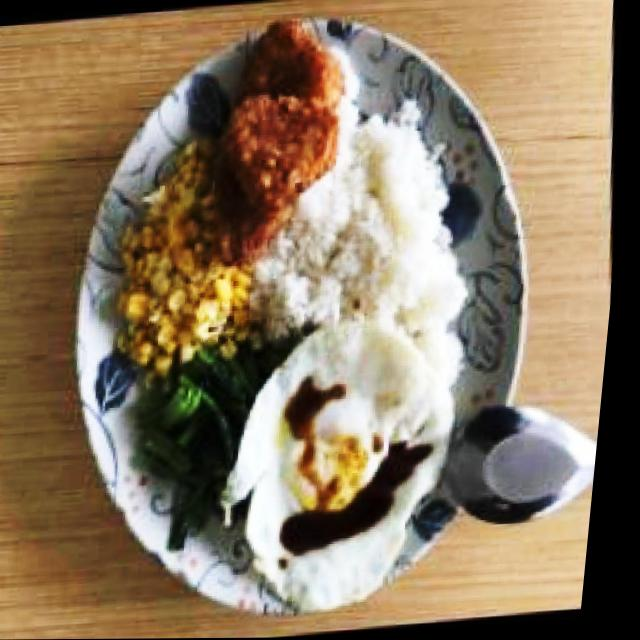Hashbrown: (220, 90, 348, 210), (210, 138, 304, 258), (240, 18, 351, 99)
fried_eggs: (209, 317, 472, 614)
rice: (244, 99, 487, 349)
water_spinach: (129, 344, 283, 552)
